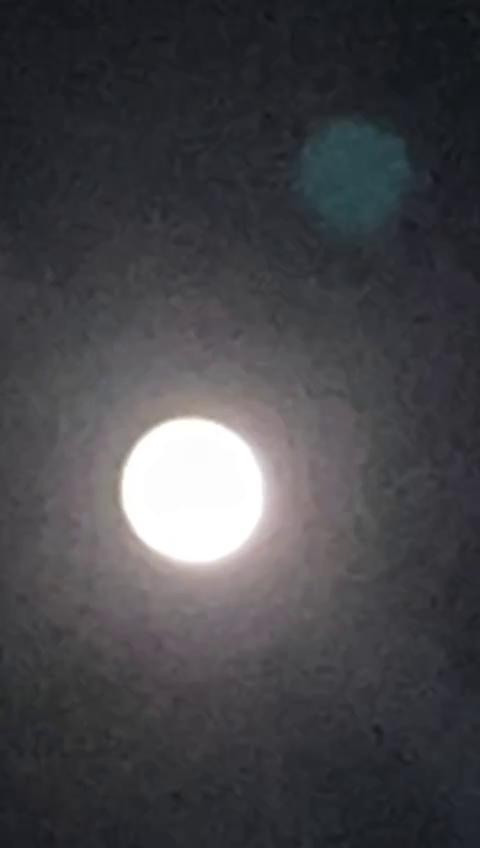moon: (118, 392, 284, 582)
